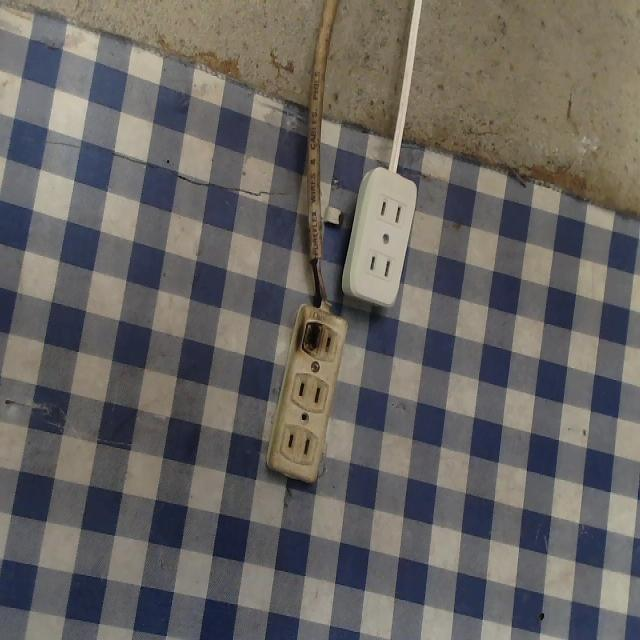-: (296, 311, 325, 360)
